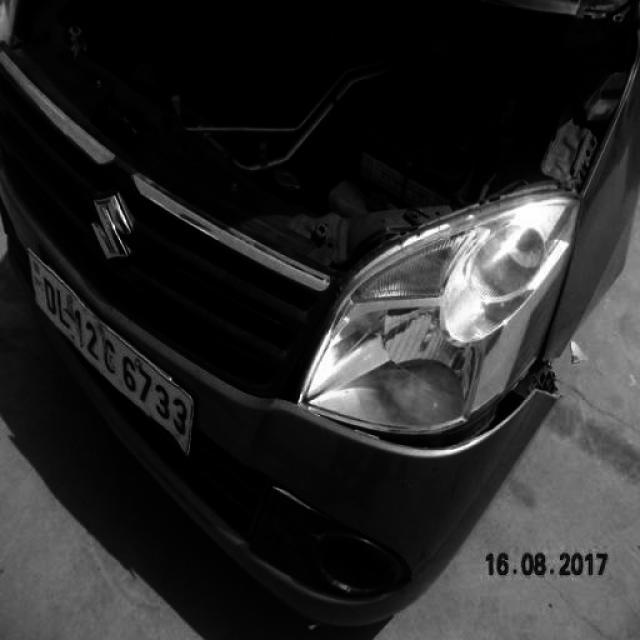car damage: (354, 357, 562, 450)
